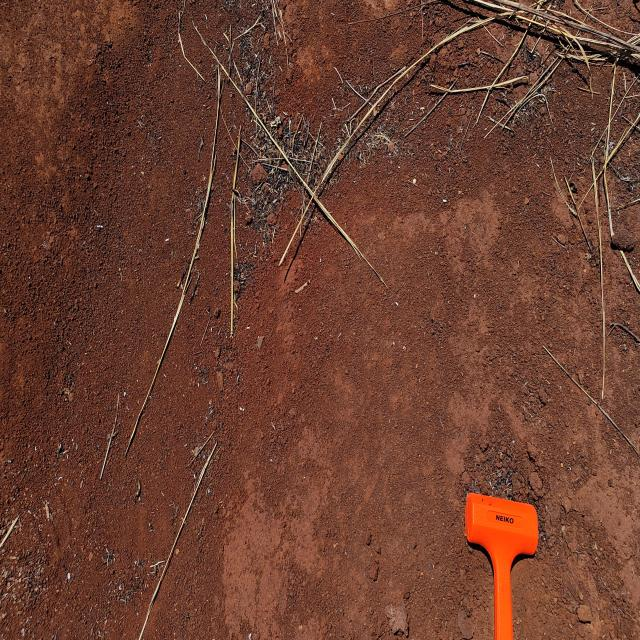Orange_hammer: (464, 489, 539, 638)
